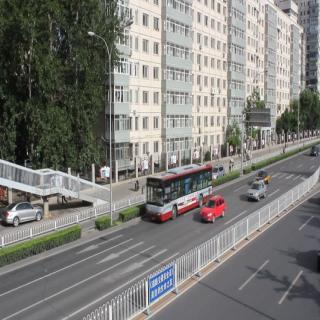Car: (151, 159, 208, 204), (2, 202, 46, 225), (192, 196, 228, 222), (251, 177, 266, 212), (254, 156, 270, 184)
